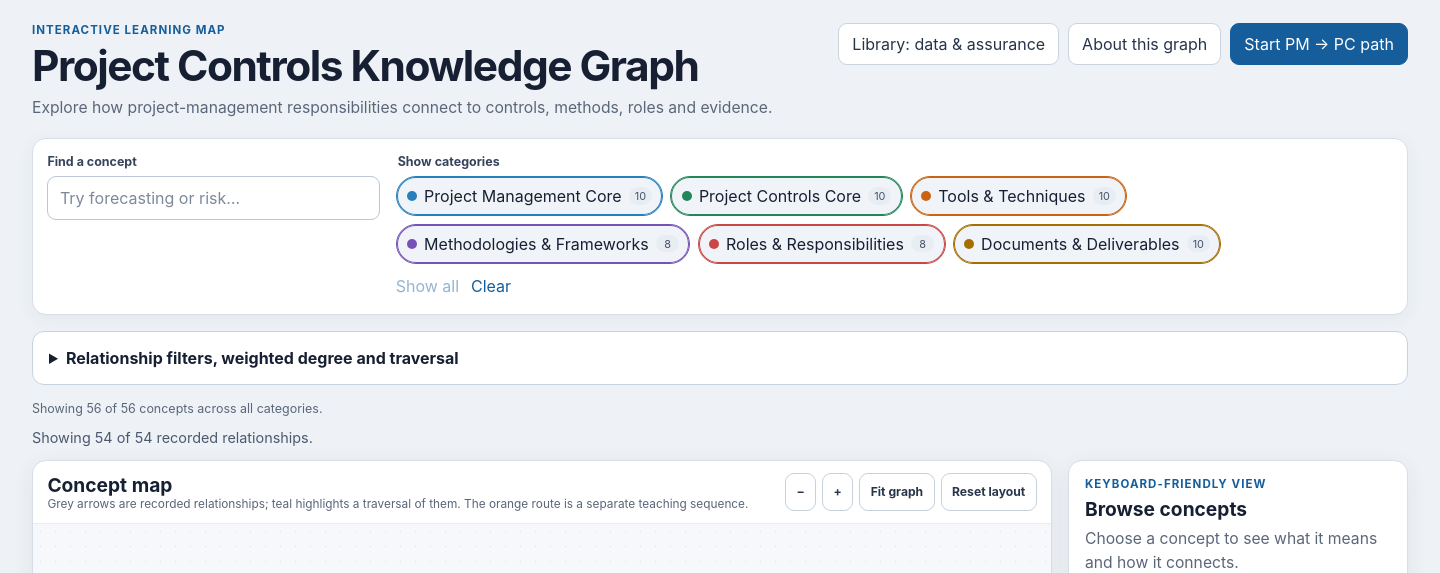
Scenario: weighted degree removes low-score concepts and teaching resets the threshold
Click the heading "Relationship filters, weighted degree and traversal". click: x=262, y=358
box: x1=66 y1=348 x2=459 y2=368
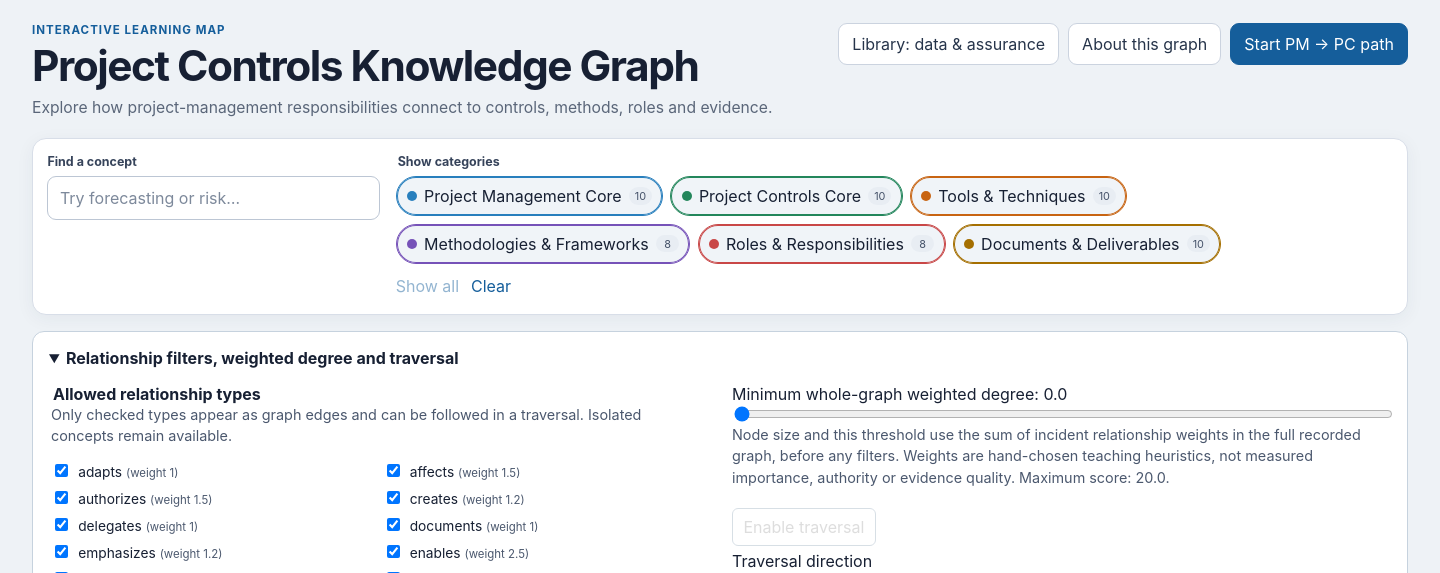
Set the slider labelled "Minimum whole-graph weighted degree: 0.0" to "10". click: x=1064, y=414
box: x1=734 y1=406 x2=1393 y2=422
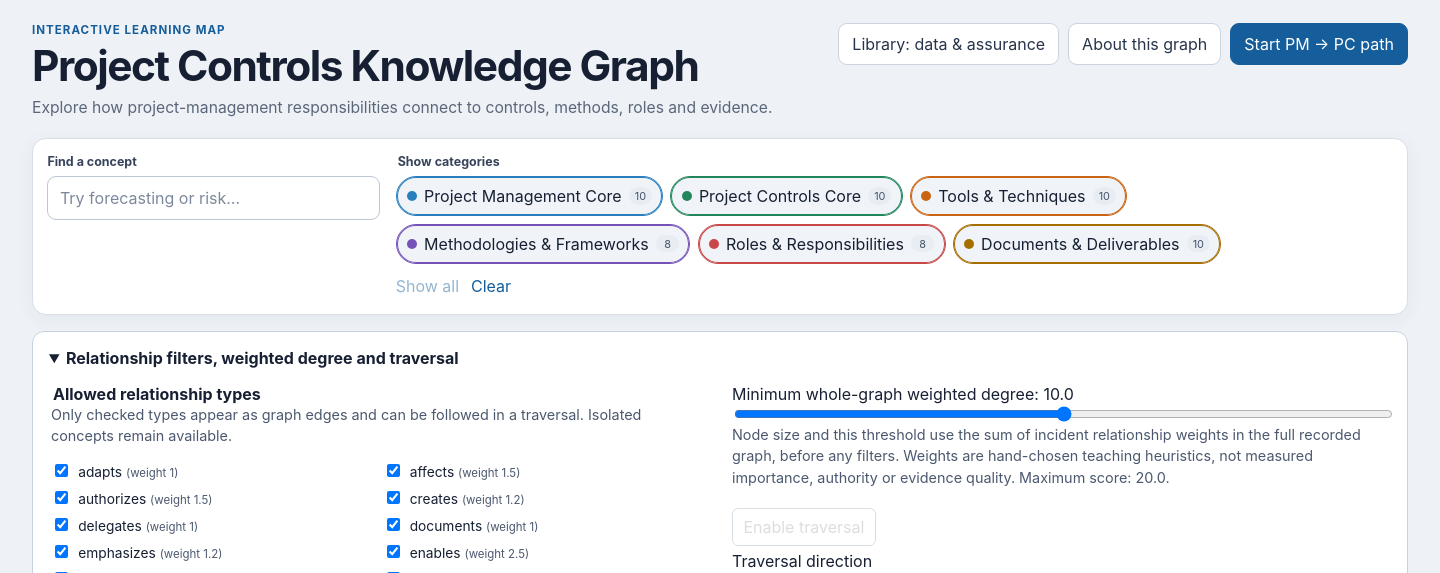
Click the button "Start PM → PC path". click: x=1319, y=44
box: x1=1230 y1=23 x2=1408 y2=65
(page scrolled)
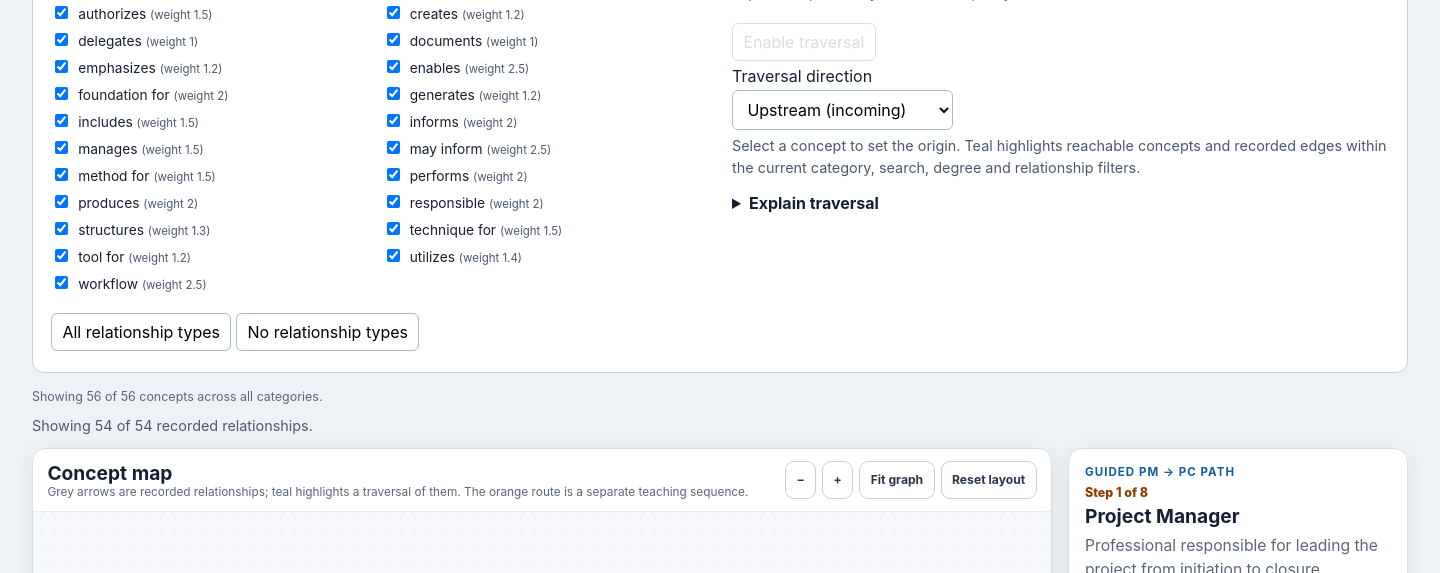
Expected: the text "Showing 56 of 56 concepts across all categories." is shown, x1=32 y1=389 x2=322 y2=404
